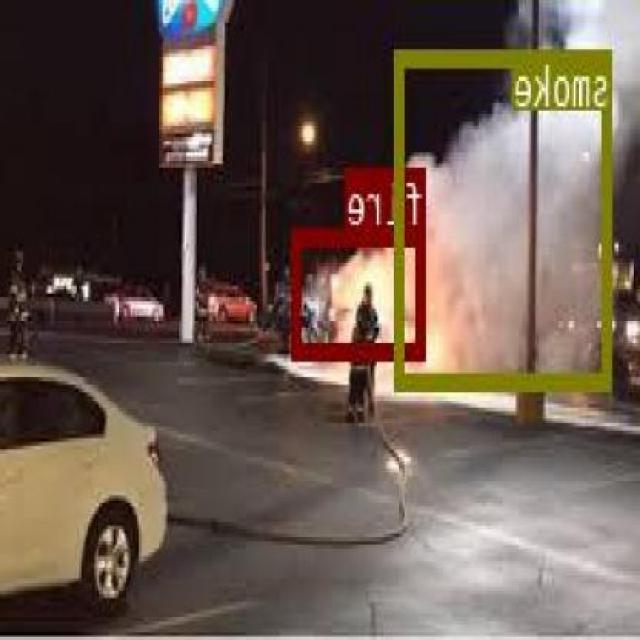Fire: (294, 228, 428, 356)
Smoke: (396, 46, 615, 388)
